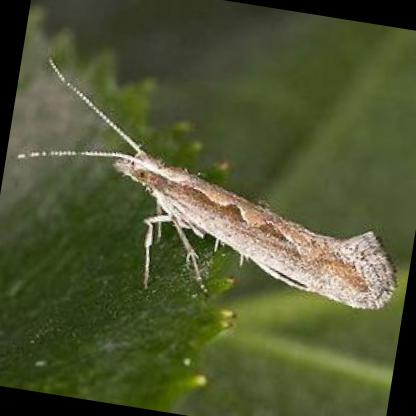plutella: (9, 46, 399, 312)
